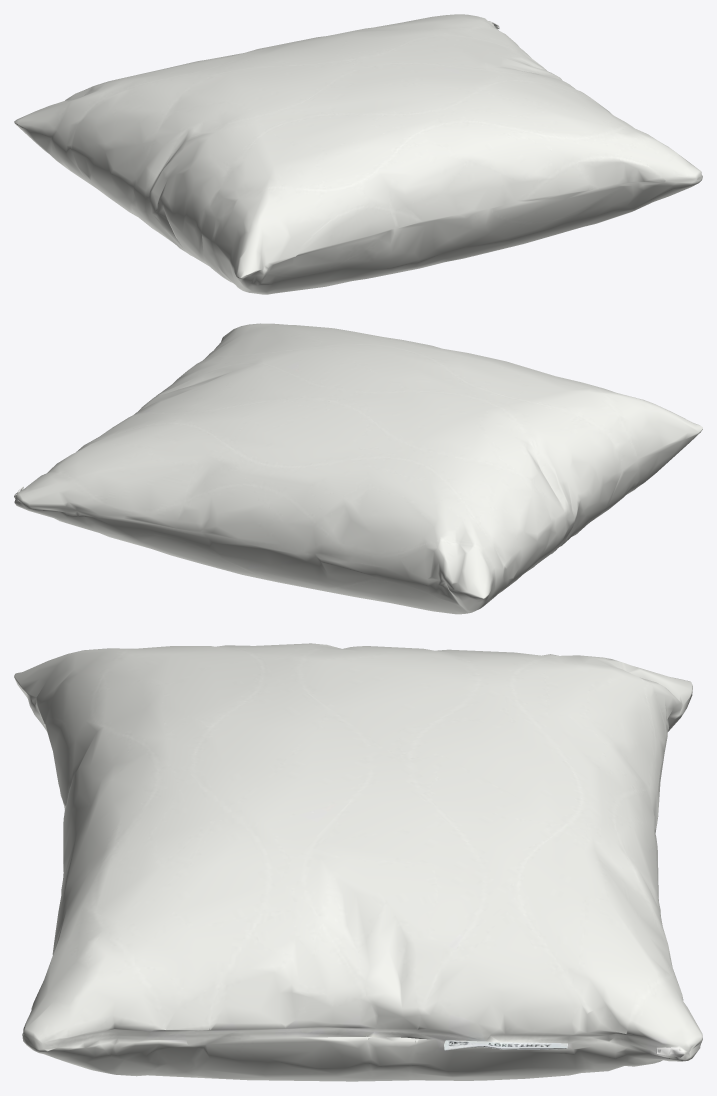
Rendered from lokstamfly_poduszka_ergonomiczna_sen_bok_plecy_50596192.glb.
3 views of the same model, one above another, from view 1: azimuth 30°, elevation 25°; view 2: azimuth 150°, elevation 25°; view 3: azimuth 270°, elevation 25° (orthographic). The views are drawn at different scales.
Visible parts, largest first — view 1: lokstamfly_poduszka_ergonomiczna_sen_bok_plecy_50596192; view 2: lokstamfly_poduszka_ergonomiczna_sen_bok_plecy_50596192; view 3: lokstamfly_poduszka_ergonomiczna_sen_bok_plecy_50596192.
Part boxes in pixels (x1,y1,x2,y2): lokstamfly_poduszka_ergonomiczna_sen_bok_plecy_50596192: (14,14,702,294); lokstamfly_poduszka_ergonomiczna_sen_bok_plecy_50596192: (14,323,702,614); lokstamfly_poduszka_ergonomiczna_sen_bok_plecy_50596192: (14,643,702,1081).
Size of the model in its own units: 0.5906 by 0.1698 by 0.4908.
1 material, 1 textured.
